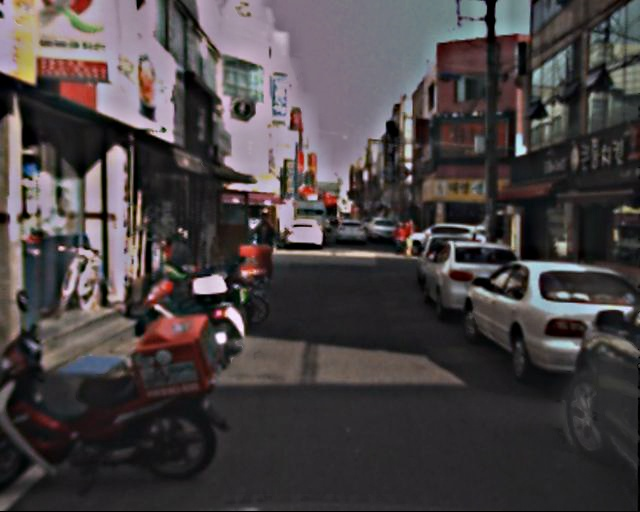person: (250, 210, 282, 288), (404, 217, 420, 255), (395, 221, 408, 253)
